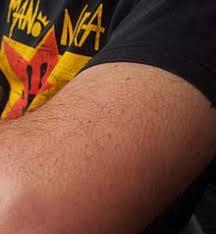Goosebumps: (0, 62, 215, 233)
